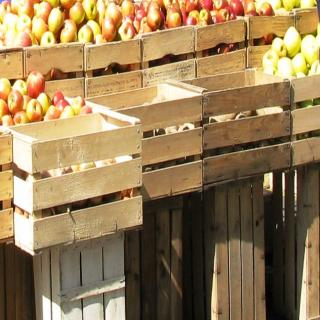Apple: (0, 0, 319, 78), (0, 68, 93, 124), (262, 24, 320, 108), (26, 96, 43, 124)
